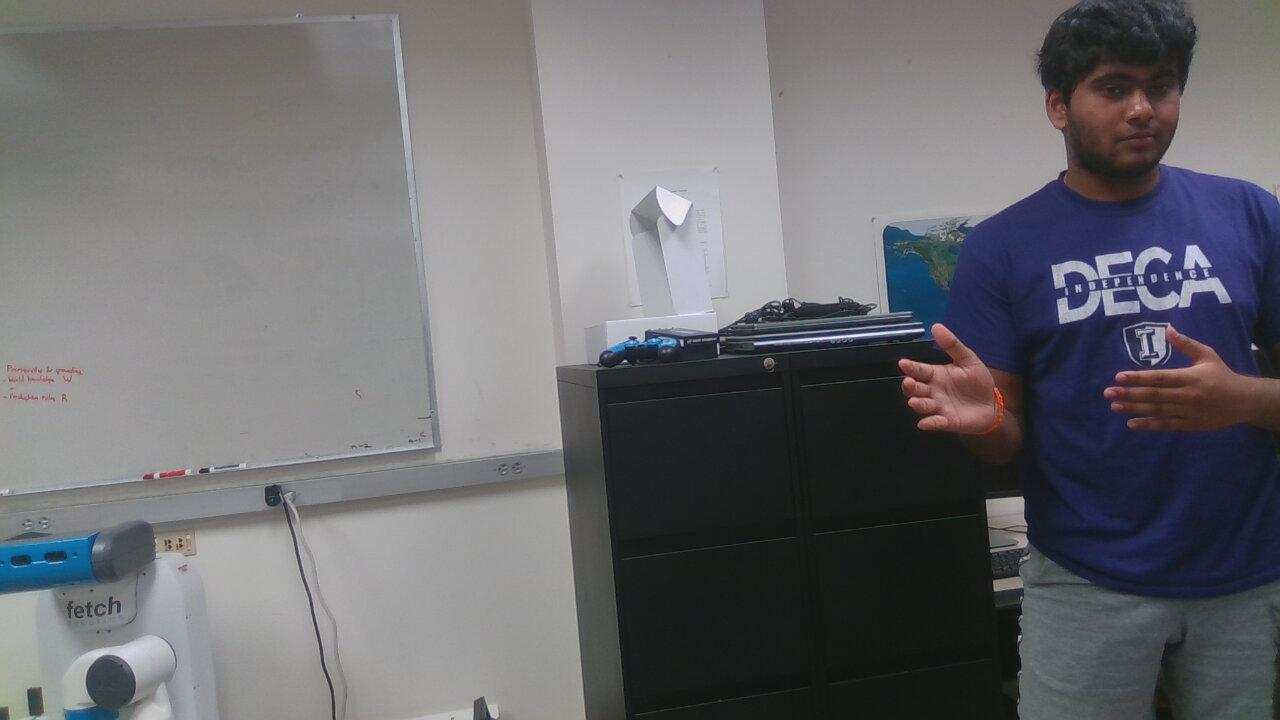hands: (1101, 319, 1267, 451), (898, 319, 1017, 445)
